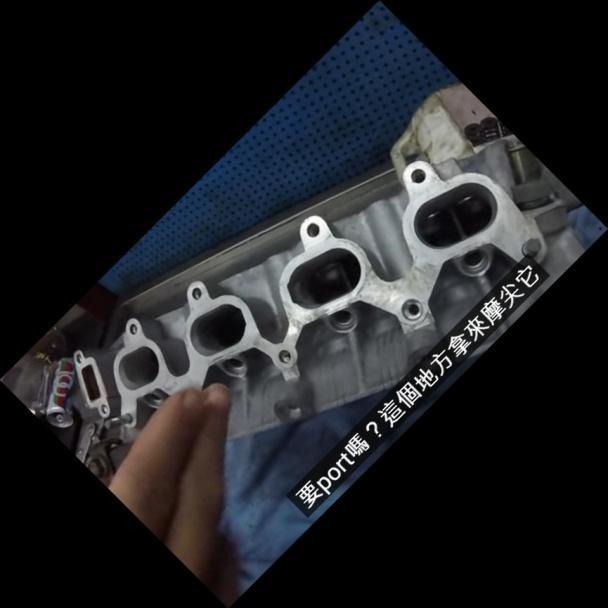hole: (395, 291, 427, 324), (406, 163, 429, 186), (274, 345, 294, 366), (302, 218, 322, 238), (187, 283, 204, 300), (125, 321, 139, 335), (96, 402, 110, 416), (72, 350, 84, 362)
